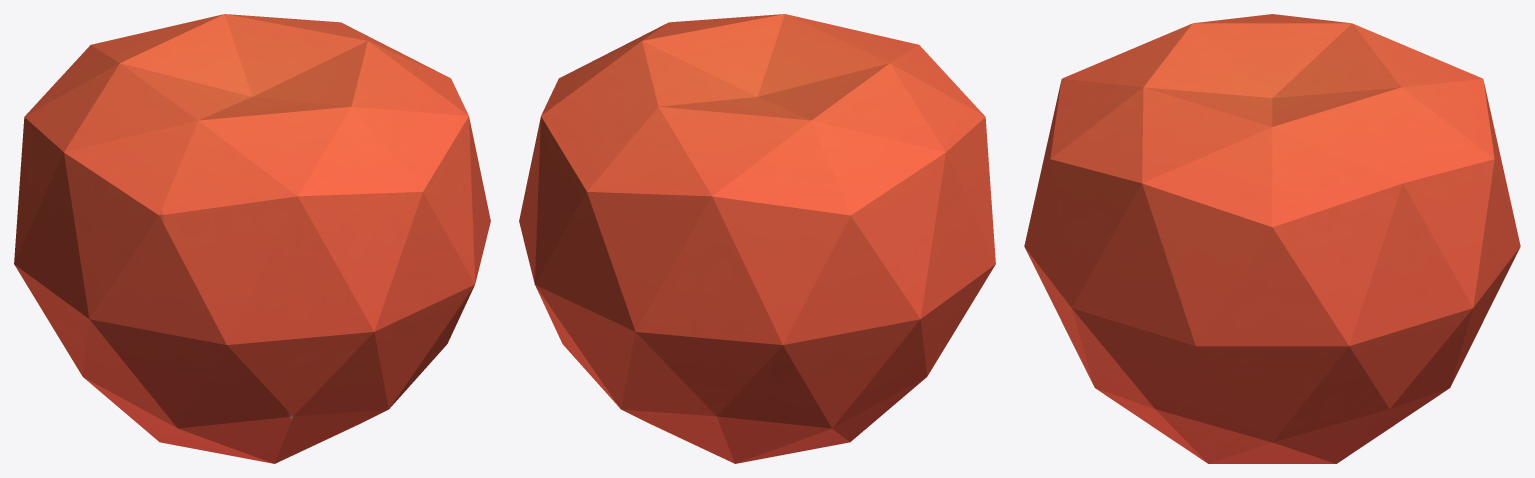
Rendered from apple3.glb.
The picture shows the model from 3 angles, left to right: view 1: azimuth 30°, elevation 25°; view 2: azimuth 150°, elevation 25°; view 3: azimuth 270°, elevation 25°; orthographic projection.
Parts seen in each view (by area): view 1: Apple3; view 2: Apple3; view 3: Apple3.
Part boxes in pixels (left/top/right/bottom): Apple3: left=14, top=14, right=490, bottom=463; Apple3: left=519, top=14, right=995, bottom=463; Apple3: left=1024, top=14, right=1520, bottom=463.
Bounding box in the file's own units: 0.4194 × 0.35 × 0.441.
1 material, 1 textured.
